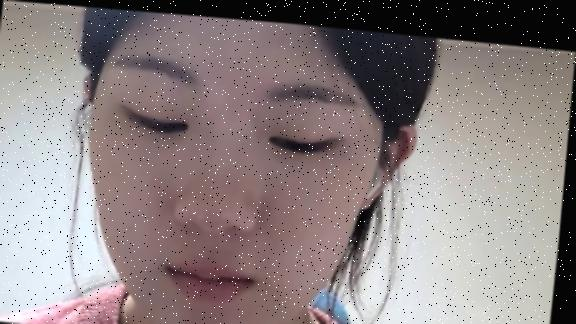eye: (159, 119, 180, 139), (289, 137, 310, 154)
iris: (126, 108, 191, 136), (269, 128, 333, 151)
